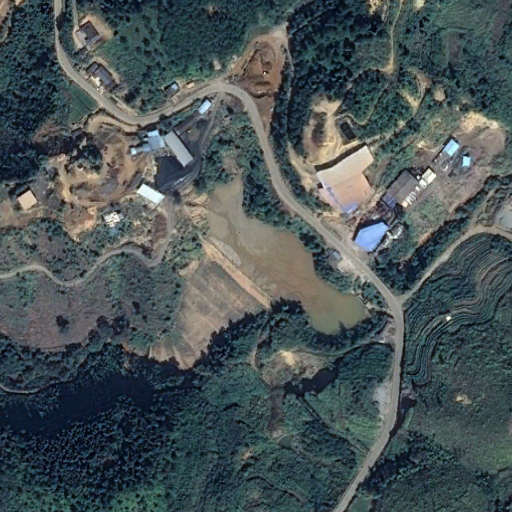tp: (114, 157, 373, 371)
